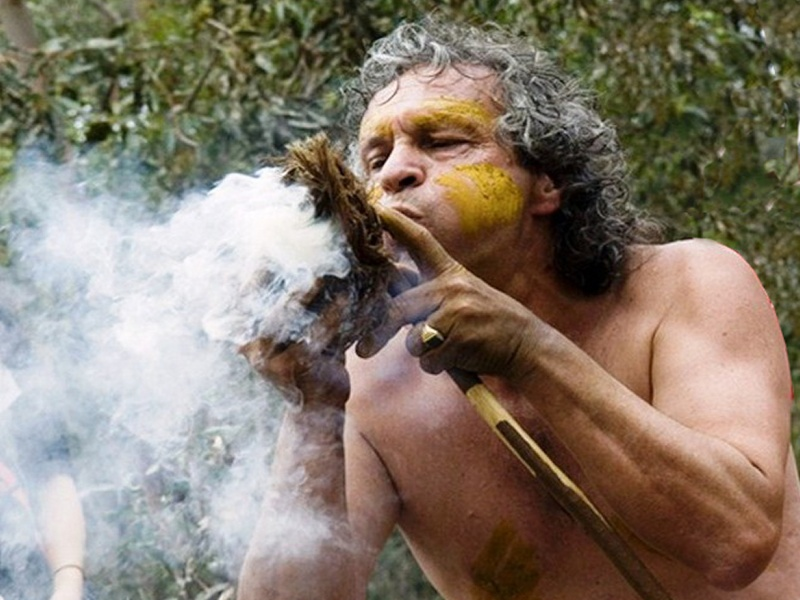smoke: (1, 163, 325, 571)
